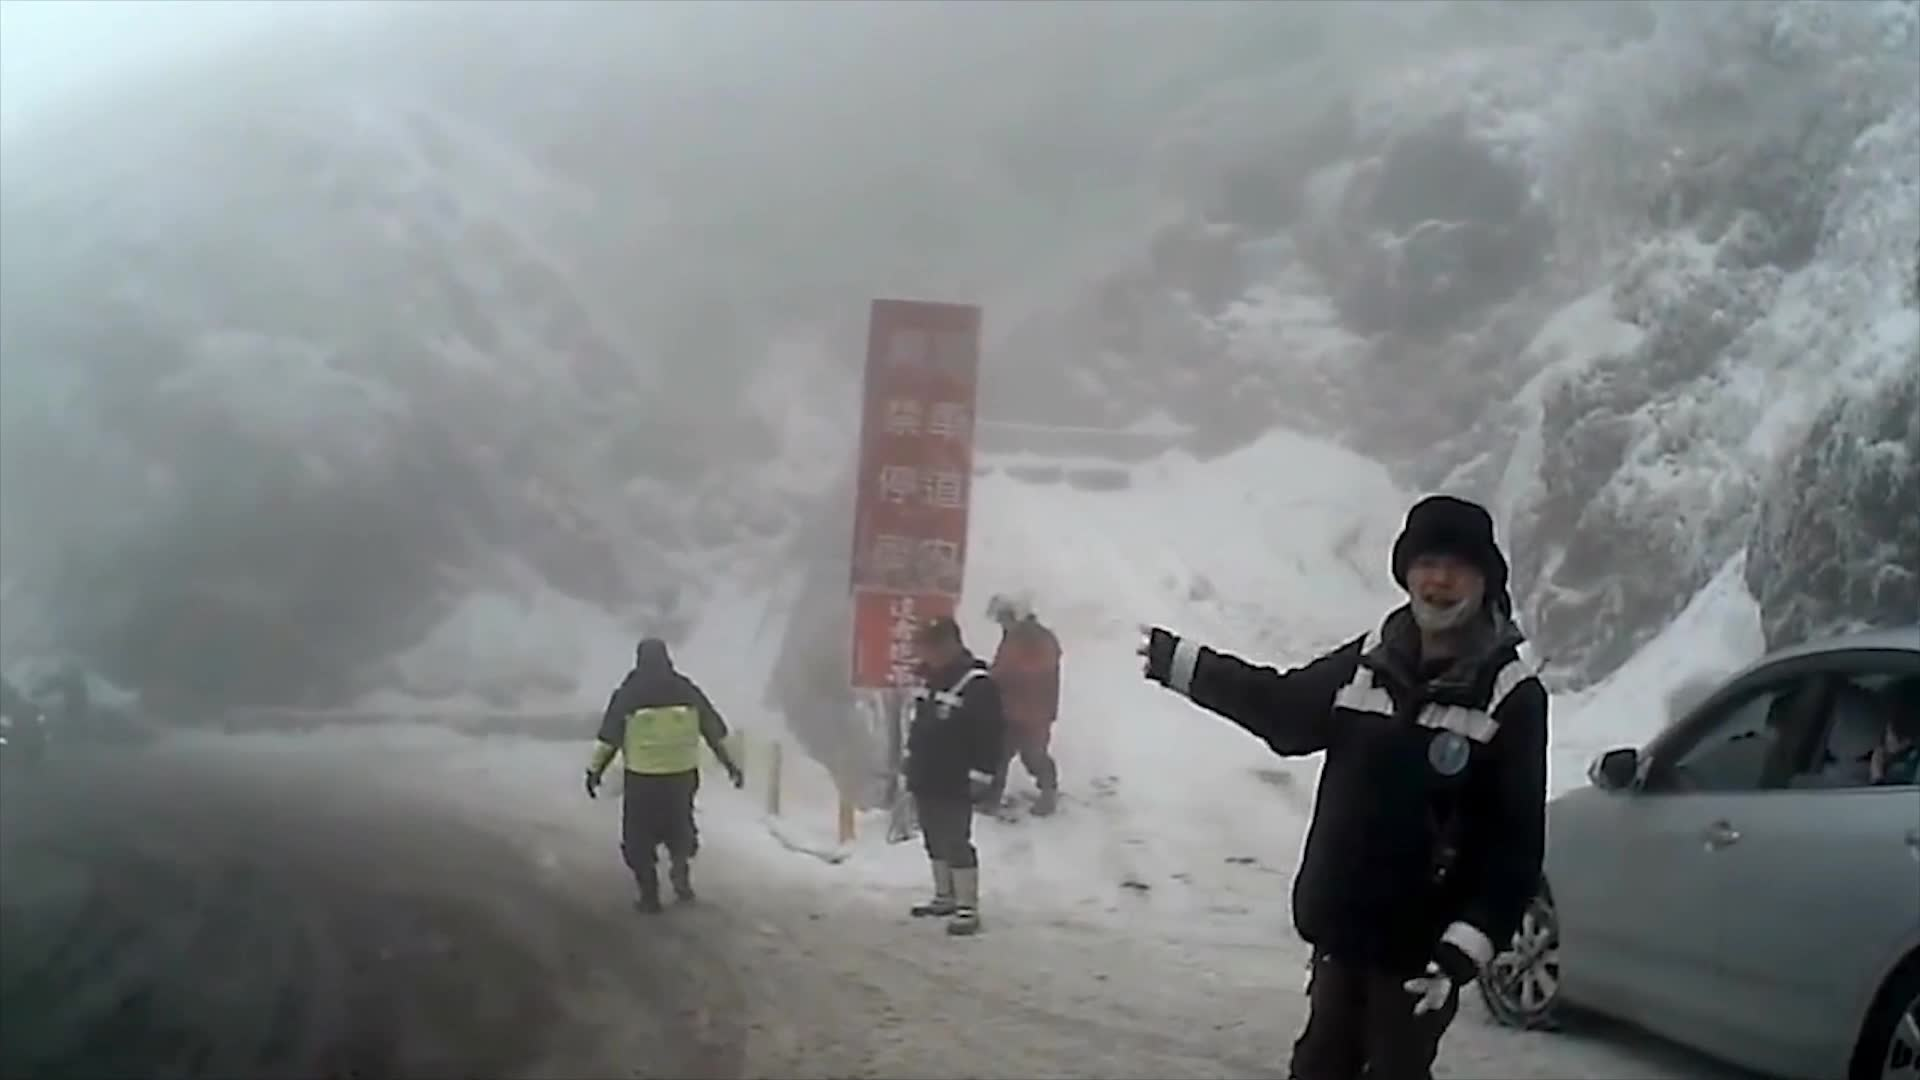pedestrian: (1137, 486, 1549, 1079), (592, 633, 740, 908), (907, 611, 1013, 934), (987, 581, 1078, 815)
vehicle: (1455, 626, 1918, 1079)
